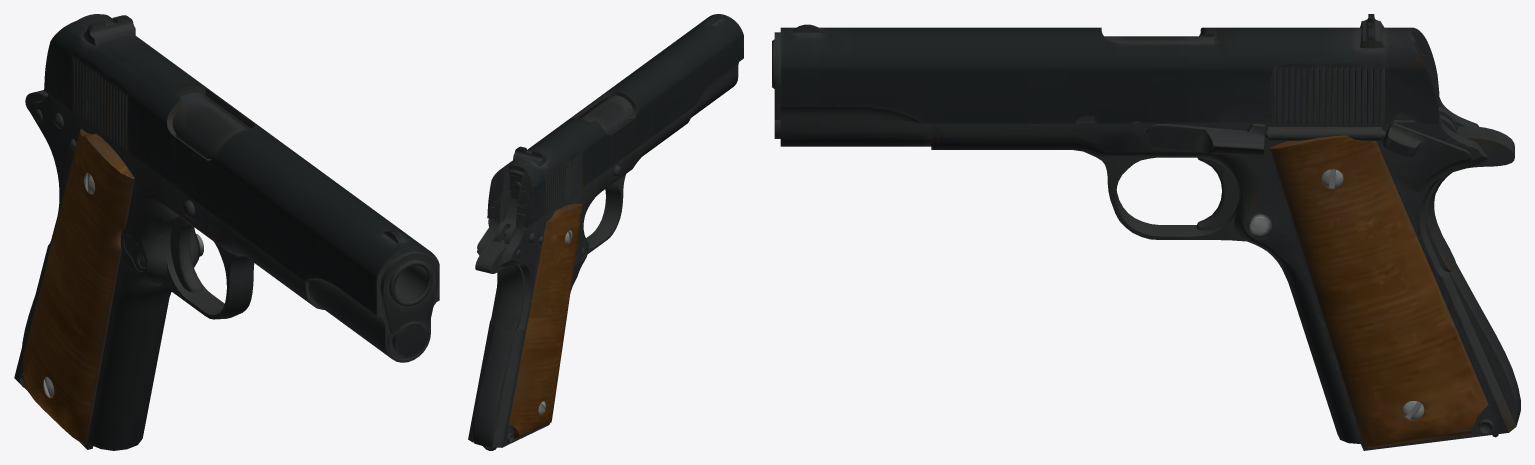
Rendered from pistol.glb.
3 renders of one model, left to right at view 1: azimuth 30°, elevation 25°; view 2: azimuth 150°, elevation 25°; view 3: azimuth 270°, elevation 25°, orthographic. The views are drawn at different scales.
Parts seen in each view (by area): view 1: m_1911_bolt_02_M1911_0; view 2: m_1911_bolt_02_M1911_0; view 3: m_1911_bolt_02_M1911_0.
Boxes of the visible parts, x1,y1,x2,y2 form: m_1911_bolt_02_M1911_0: (14,14,439,450); m_1911_bolt_02_M1911_0: (468,14,743,450); m_1911_bolt_02_M1911_0: (772,14,1520,450).
Bounding box in the file's own units: 0.0678 × 0.3079 × 0.5015.
1 material, 1 textured.
